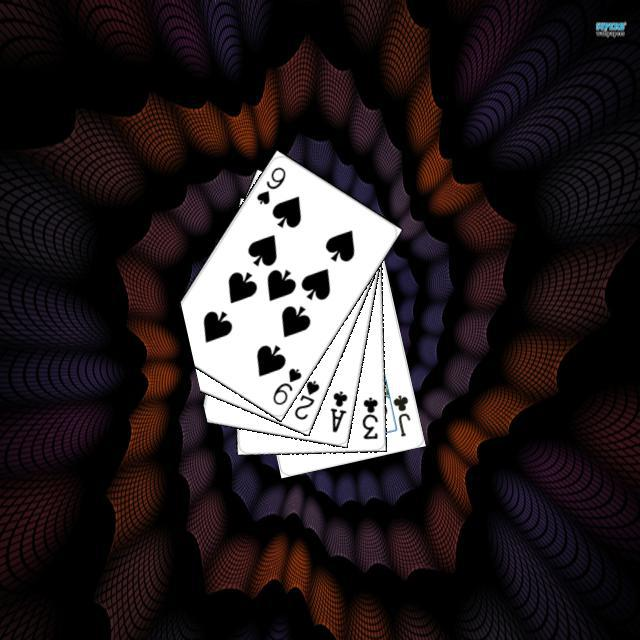2s: (289, 375, 321, 421)
3c: (357, 392, 380, 440)
9s: (251, 162, 287, 206), (268, 363, 303, 407)
Ac: (325, 386, 349, 434)
Jc: (388, 390, 412, 438)
